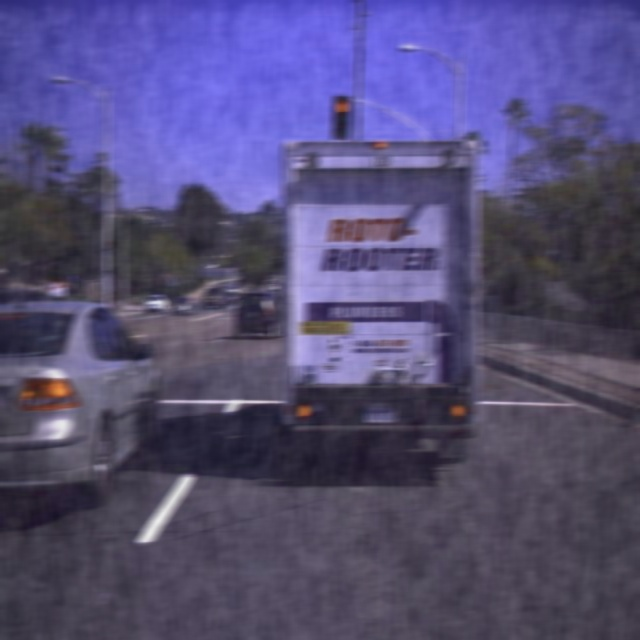stop: (332, 100, 352, 136)
stop traffic light: (332, 100, 352, 136)
